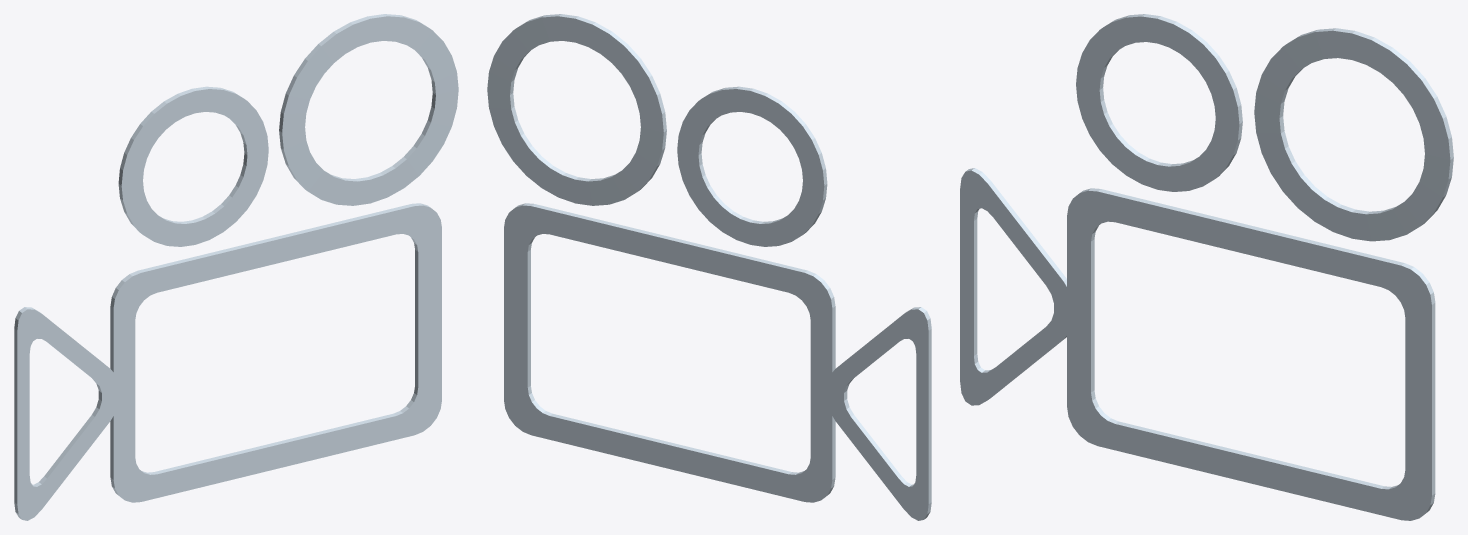
Rendered from Recorder_3D_Icon_03.fbx.
3 views of the same model, side by side, from view 1: azimuth 30°, elevation 25°; view 2: azimuth 150°, elevation 25°; view 3: azimuth 330°, elevation 25° (orthographic). The views are drawn at different scales.
Parts seen in each view (by area): view 1: Recorder_3D_Icon_03; view 2: Recorder_3D_Icon_03; view 3: Recorder_3D_Icon_03.
Boxes of the visible parts, x1=… form: Recorder_3D_Icon_03: x1=14, y1=14, x2=458, y2=520; Recorder_3D_Icon_03: x1=487, y1=14, x2=931, y2=520; Recorder_3D_Icon_03: x1=960, y1=14, x2=1453, y2=520.
Bounding box in the file's own units: 163 × 151 × 2.13.
